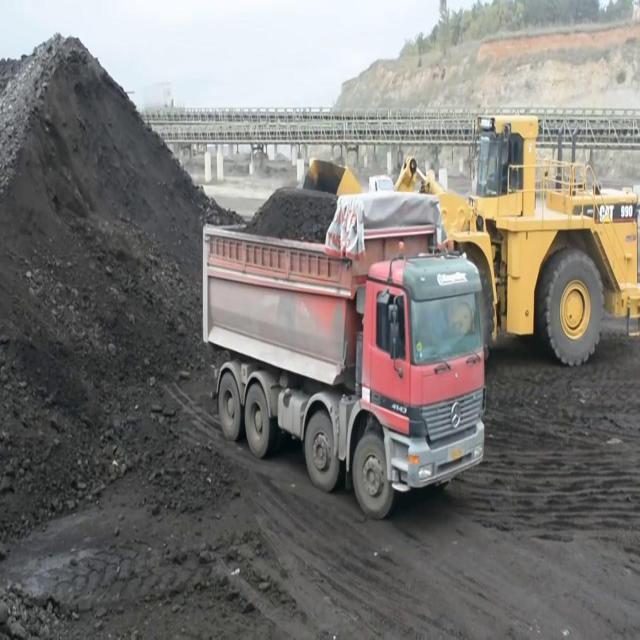Dump Truck: (198, 180, 488, 519)
Loader: (302, 108, 640, 366)
